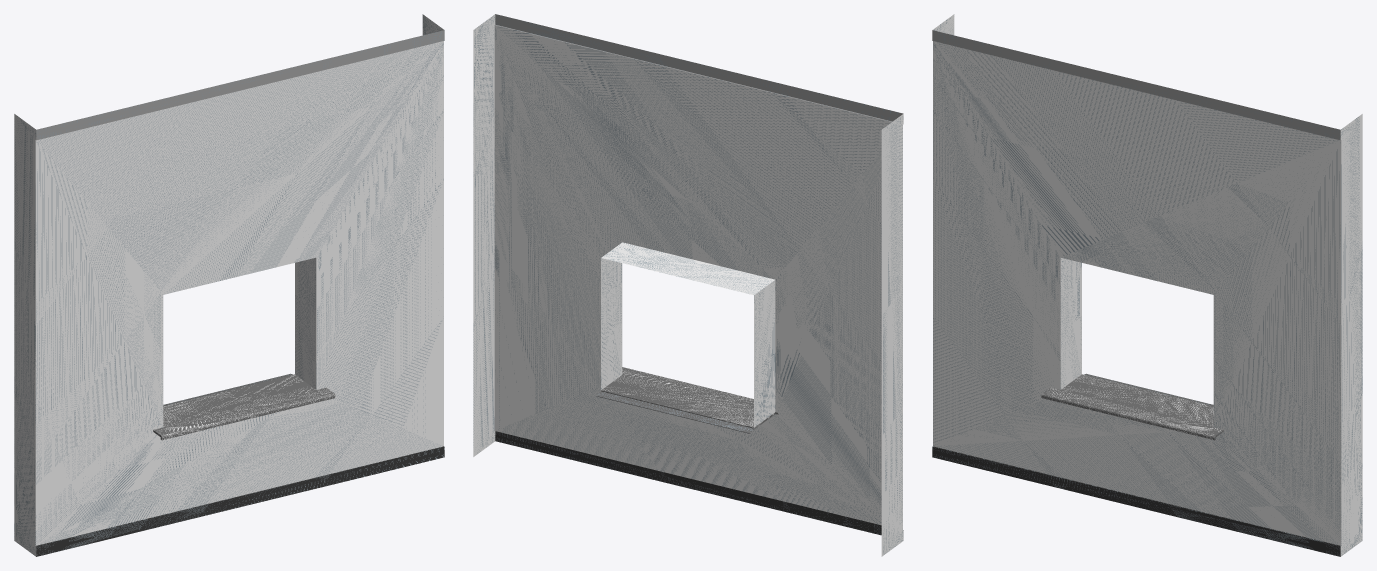
Rendered from WindowBlock_os_plinth_[400x400]_150x124x[090].dae.
3 views of the same model, side by side, from view 1: azimuth 30°, elevation 25°; view 2: azimuth 150°, elevation 25°; view 3: azimuth 330°, elevation 25° (orthographic).
Parts seen in each view (by area): view 1: group_2 (×4), group_1; view 2: group_2 (×4), group_1 (×2); view 3: group_2 (×4), group_1.
Boxes of the visible parts, x1=… form: group_2 (×4): x1=14, y1=14, x2=444, y2=556; group_1: x1=153, y1=374, x2=335, y2=440; group_2 (×4): x1=473, y1=14, x2=903, y2=556; group_1 (×2): x1=596, y1=367, x2=778, y2=433; group_2 (×4): x1=932, y1=14, x2=1362, y2=556; group_1: x1=1041, y1=374, x2=1223, y2=440.
Size of the model in its own units: 157 by 23.03 by 157.
